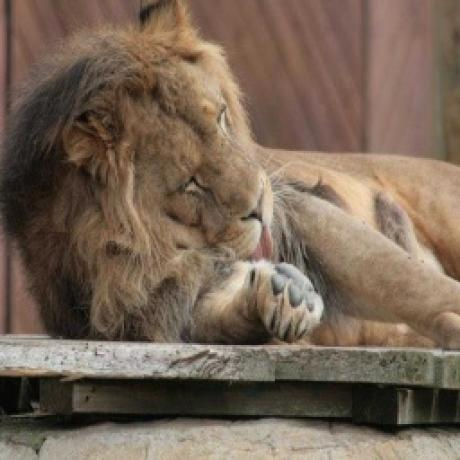Lion: (0, 0, 460, 353)
